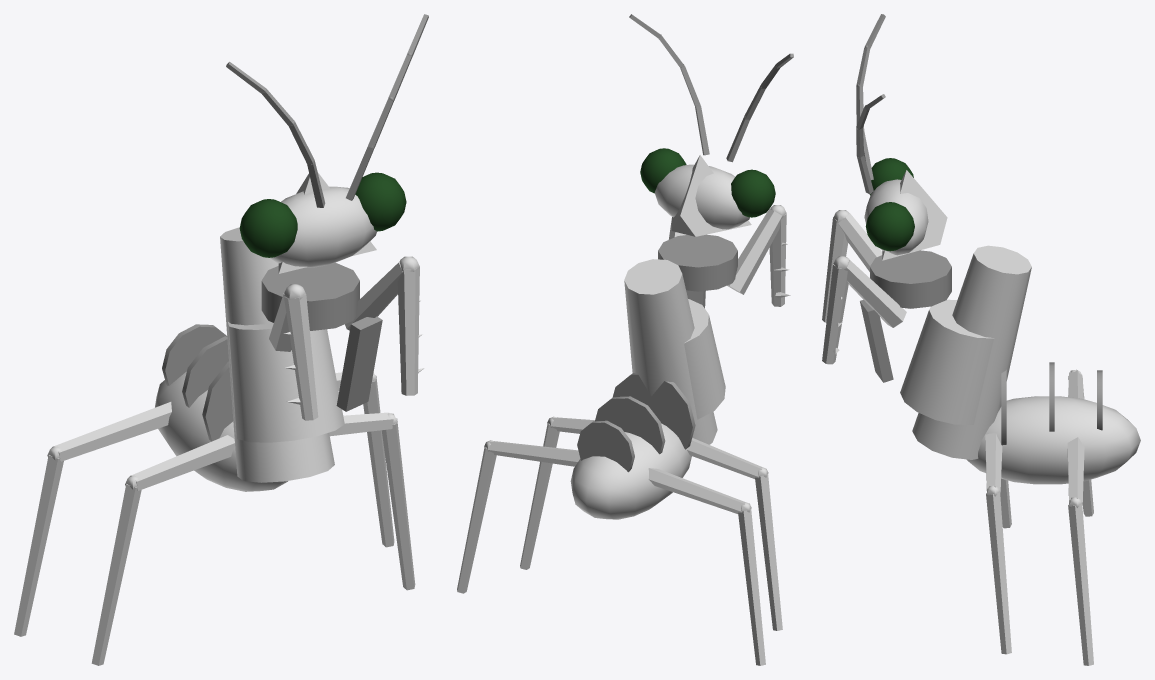
File: alien_mantis.fbx
3 views of the same model, side by side, from view 1: azimuth 30°, elevation 25°; view 2: azimuth 150°, elevation 25°; view 3: azimuth 270°, elevation 25° (orthographic). The views are drawn at different scales.
Parts seen in each view (by area): view 1: alien_mantis, alien_mantis__gesture; view 2: alien_mantis, alien_mantis__gesture; view 3: alien_mantis, alien_mantis__gesture.
Part boxes in pixels (box(x1,y1,x2,y2)): alien_mantis: box(14, 14, 428, 665); alien_mantis__gesture: box(269, 256, 424, 420); alien_mantis: box(457, 14, 793, 665); alien_mantis__gesture: box(668, 205, 790, 306); alien_mantis: box(856, 14, 1140, 665); alien_mantis__gesture: box(822, 210, 906, 364).
Size of the model in its own units: 0.2679 by 0.432 by 0.2329.
